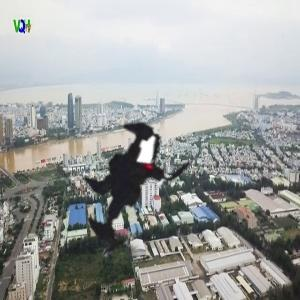drone: (34, 88, 241, 295)
